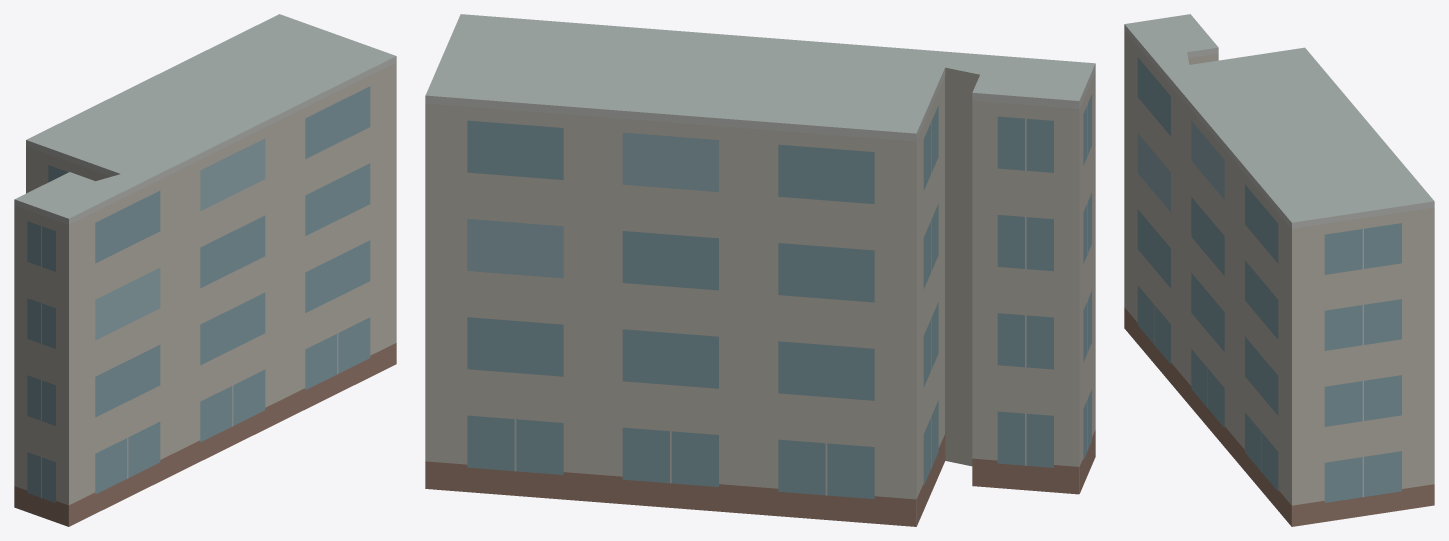
The model's file is residential-8ad8165a-2e04-4ffd-9252-b5731e9ba53a.glb.
3 views of the same model, side by side, from view 1: azimuth 30°, elevation 25°; view 2: azimuth 150°, elevation 25°; view 3: azimuth 270°, elevation 25° (orthographic). The views are drawn at different scales.
Parts seen in each view (by area): view 1: residential-8ad8165a-2e04-4ffd-9252-b5731e9ba53a.tmp; view 2: residential-8ad8165a-2e04-4ffd-9252-b5731e9ba53a.tmp; view 3: residential-8ad8165a-2e04-4ffd-9252-b5731e9ba53a.tmp.
Boxes of the visible parts, x1,y1,x2,y2 form: residential-8ad8165a-2e04-4ffd-9252-b5731e9ba53a.tmp: (14,14,396,526); residential-8ad8165a-2e04-4ffd-9252-b5731e9ba53a.tmp: (425,14,1095,526); residential-8ad8165a-2e04-4ffd-9252-b5731e9ba53a.tmp: (1124,14,1434,526).
Size of the model in its own units: 17.97 by 12.2 by 11.29.
